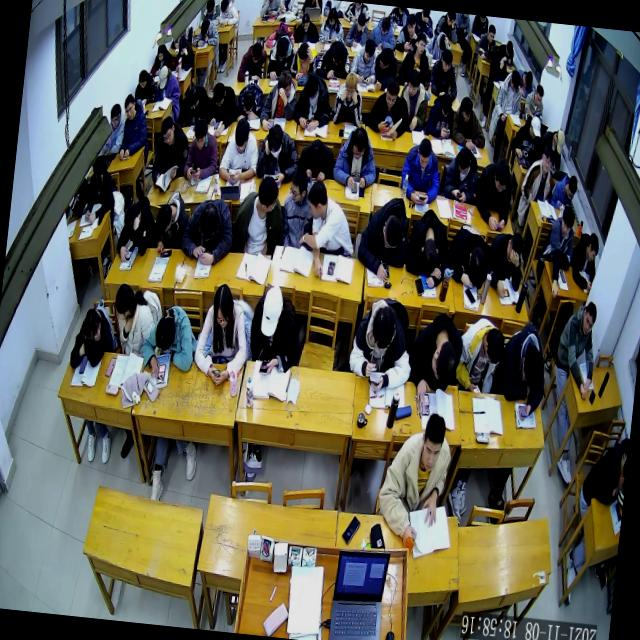bow: (404, 309, 466, 407), (496, 318, 552, 422), (354, 194, 412, 286), (137, 299, 199, 382), (533, 202, 580, 302), (177, 193, 236, 269), (402, 206, 452, 290), (68, 304, 118, 374), (444, 222, 493, 292), (254, 121, 302, 185), (150, 186, 192, 256), (449, 93, 490, 152), (567, 229, 601, 293), (297, 137, 337, 185), (176, 80, 212, 132), (314, 38, 352, 82), (232, 78, 266, 125), (288, 40, 322, 84), (370, 45, 400, 93), (264, 19, 296, 51), (424, 30, 452, 64), (192, 15, 220, 48), (198, 0, 221, 30), (216, 0, 240, 27), (487, 54, 508, 84), (516, 68, 536, 98)
down: (258, 282, 286, 340), (428, 336, 459, 387), (369, 304, 398, 356), (519, 344, 546, 390), (210, 282, 235, 330), (195, 200, 221, 243), (153, 312, 178, 353), (380, 213, 404, 253), (482, 326, 506, 366), (265, 122, 285, 162), (232, 117, 251, 157), (122, 200, 143, 236), (491, 156, 511, 193), (305, 140, 326, 175), (350, 124, 370, 160), (154, 202, 174, 236), (192, 116, 210, 152), (415, 138, 434, 172), (505, 231, 524, 265), (158, 114, 177, 147), (302, 73, 320, 106), (404, 68, 422, 99), (342, 70, 359, 102), (584, 231, 600, 264), (384, 78, 401, 109), (211, 81, 228, 110), (274, 34, 290, 64), (456, 147, 472, 177), (185, 82, 201, 111), (88, 172, 104, 200), (240, 86, 256, 114), (438, 47, 454, 74), (330, 40, 346, 66), (362, 36, 376, 65), (564, 173, 578, 202), (552, 126, 566, 155), (528, 115, 543, 142), (108, 102, 122, 130), (438, 92, 453, 118), (156, 64, 170, 90), (248, 39, 262, 65), (118, 242, 135, 262), (404, 13, 418, 37), (487, 215, 505, 233), (508, 68, 521, 92), (435, 32, 449, 53), (533, 84, 544, 108), (136, 69, 148, 90), (326, 6, 338, 27), (379, 14, 391, 35), (356, 11, 367, 33), (486, 24, 497, 46), (155, 42, 167, 62), (176, 36, 188, 56), (198, 19, 210, 39), (520, 70, 532, 90), (300, 11, 310, 31), (504, 39, 514, 57), (205, 0, 215, 16), (218, 0, 229, 14)
lookup: (417, 412, 449, 479), (580, 300, 598, 338), (558, 203, 577, 239), (540, 144, 556, 176), (122, 92, 136, 121), (413, 32, 428, 58)
sit: (374, 405, 456, 551), (346, 292, 418, 395), (190, 281, 253, 389), (295, 177, 360, 280), (246, 280, 306, 378), (229, 170, 289, 258), (550, 298, 600, 402), (453, 315, 506, 396), (108, 280, 158, 361), (470, 154, 516, 234), (216, 115, 264, 186), (330, 124, 380, 192), (278, 166, 318, 251), (150, 114, 192, 194), (114, 192, 158, 267), (398, 134, 443, 207), (364, 75, 412, 142), (482, 227, 526, 300), (578, 442, 628, 506), (181, 114, 222, 186), (291, 69, 335, 133), (258, 67, 300, 134), (518, 141, 558, 206), (116, 91, 152, 163), (441, 143, 482, 206), (396, 66, 431, 134), (397, 29, 435, 89), (82, 166, 116, 228), (330, 70, 365, 129), (204, 80, 238, 140), (493, 66, 525, 122), (428, 46, 461, 100), (508, 112, 544, 160), (265, 31, 297, 84), (424, 91, 456, 141), (235, 38, 268, 86), (348, 36, 379, 87), (101, 102, 127, 156), (548, 170, 578, 214), (538, 124, 566, 170), (154, 62, 183, 106), (367, 12, 398, 52), (318, 5, 346, 46), (344, 10, 372, 50), (394, 11, 420, 54), (522, 82, 547, 124), (292, 10, 321, 46), (148, 39, 174, 76), (133, 68, 158, 106), (171, 36, 196, 74), (476, 22, 498, 63), (496, 38, 516, 66)
